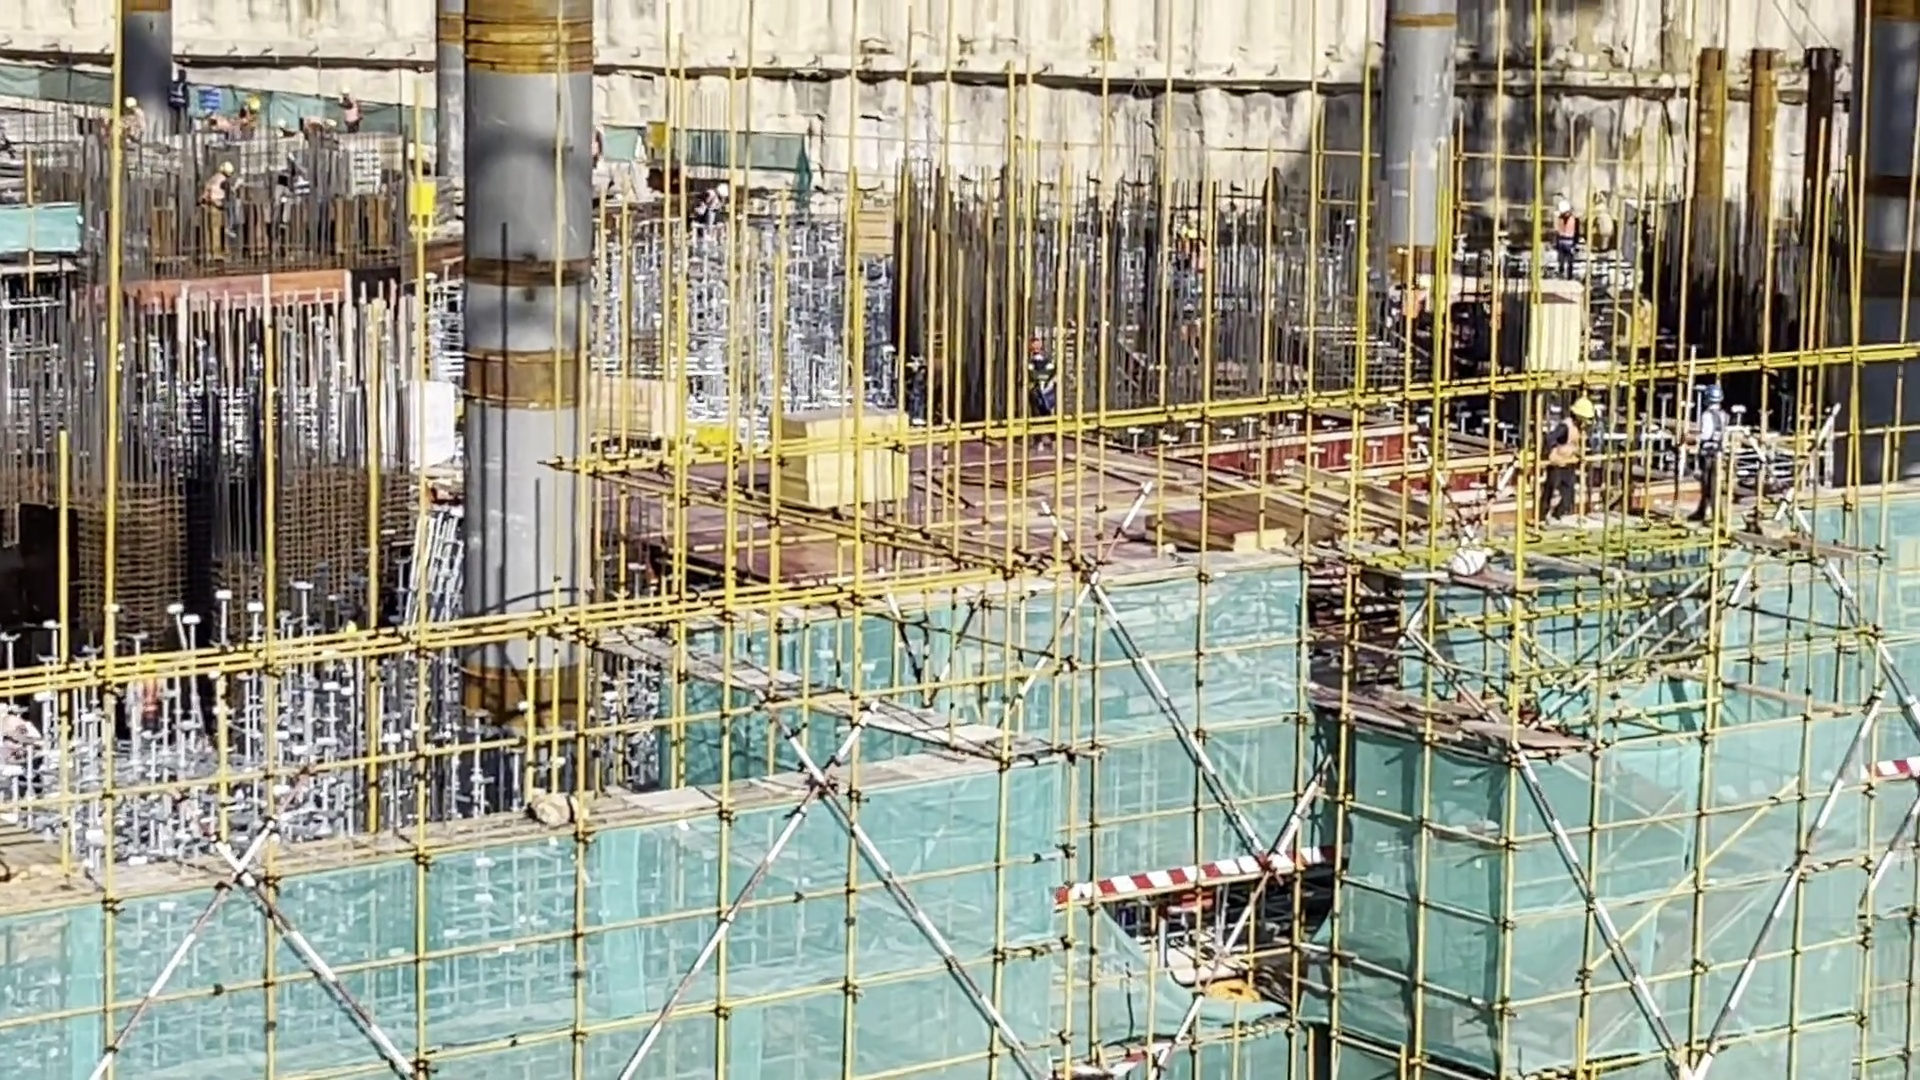helmet: (1573, 394, 1595, 422), (1702, 383, 1722, 409), (878, 347, 900, 360), (1185, 225, 1202, 241), (714, 184, 728, 199), (1032, 343, 1052, 352), (122, 97, 136, 109), (1559, 200, 1571, 214), (1416, 271, 1427, 286), (286, 155, 301, 165), (178, 68, 187, 81), (203, 106, 215, 115), (223, 155, 231, 169), (344, 88, 352, 102), (256, 101, 264, 113), (329, 121, 334, 131)
person: (1552, 394, 1600, 511), (1022, 327, 1068, 441), (879, 341, 935, 425), (139, 656, 177, 766), (1696, 375, 1724, 527), (1, 713, 52, 793), (276, 151, 314, 249), (1555, 185, 1584, 269), (340, 91, 376, 153), (118, 94, 156, 145), (168, 69, 198, 132), (687, 175, 722, 224), (208, 168, 224, 274), (1404, 272, 1428, 342), (582, 113, 607, 175), (1172, 215, 1198, 271), (231, 94, 254, 145), (304, 110, 336, 143), (203, 101, 225, 148)
vest: (1554, 421, 1584, 469), (1027, 361, 1059, 407), (151, 677, 179, 726), (281, 157, 313, 201), (1703, 399, 1723, 460), (4, 722, 31, 762), (203, 175, 228, 214), (902, 354, 928, 387), (122, 109, 146, 138), (592, 119, 611, 155), (165, 79, 186, 109), (302, 110, 324, 132), (1173, 231, 1194, 254), (697, 192, 720, 212), (1406, 288, 1421, 315), (344, 103, 362, 124), (242, 106, 264, 121), (215, 118, 227, 131)
